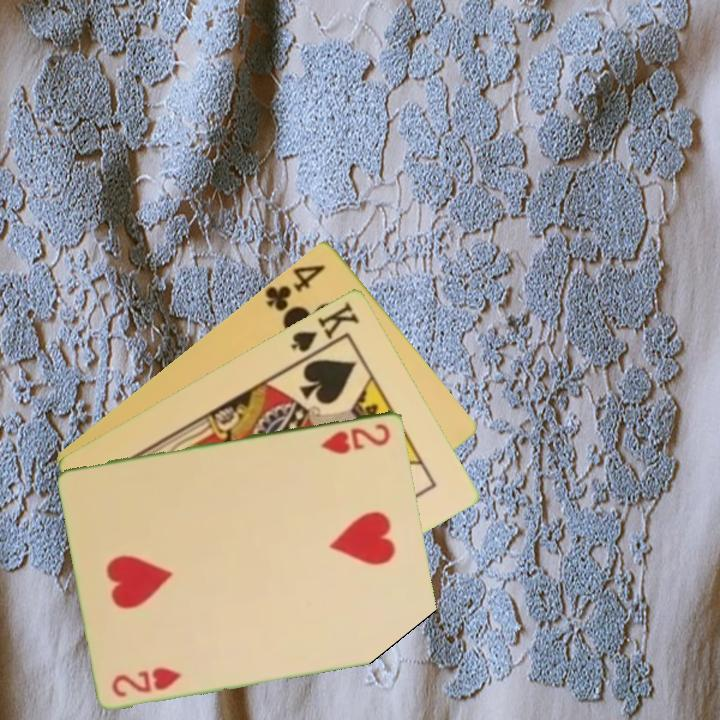2h: (317, 419, 394, 456), (109, 663, 185, 700)
4c: (261, 260, 329, 314)
Ks: (287, 297, 363, 363)
